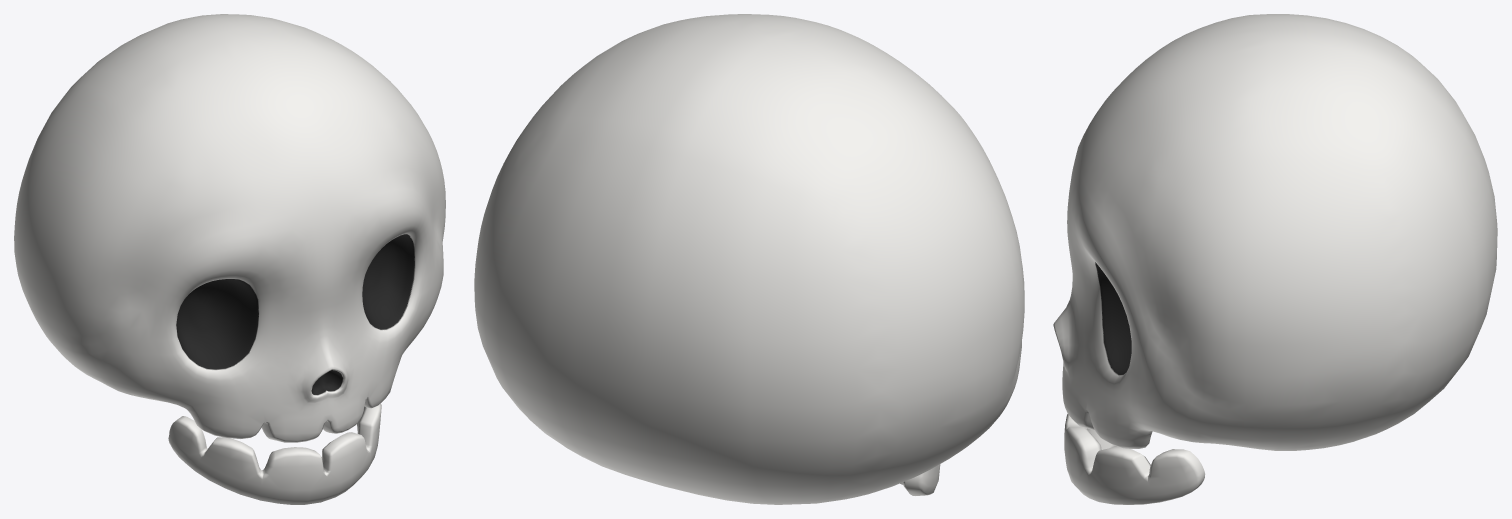
The model's file is kuluou0_20180409.fbx.
3 views of the same model, side by side, from view 1: azimuth 30°, elevation 25°; view 2: azimuth 150°, elevation 25°; view 3: azimuth 270°, elevation 25° (orthographic). The views are drawn at different scales.
Visible parts, largest first — view 1: bs0; view 2: bs0; view 3: bs0.
Part boxes in pixels (x1,y1,x2,y2): bs0: (14,14,445,504); bs0: (474,14,1024,504); bs0: (1053,14,1497,504).
Bounding box in the file's own units: 261 × 261 × 235.
Materials: 1 (1 with a texture image).
